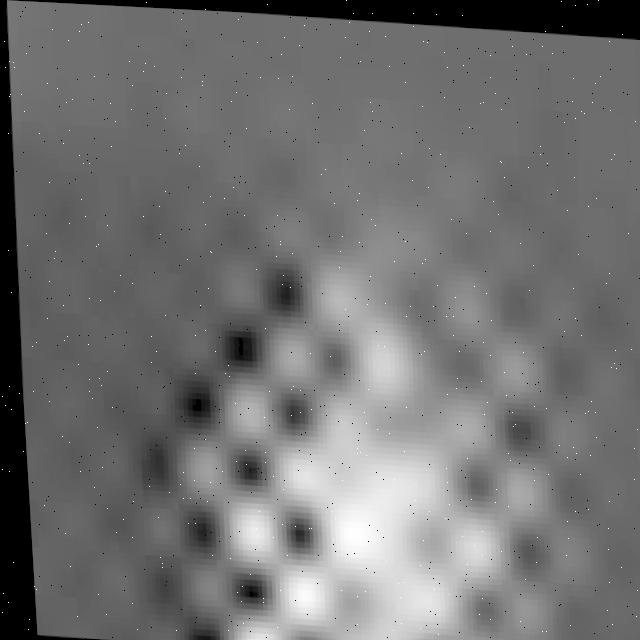person: (141, 199, 517, 640)
